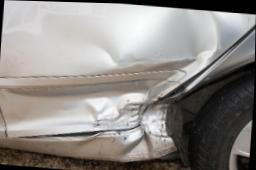Door: (0, 0, 256, 167)
